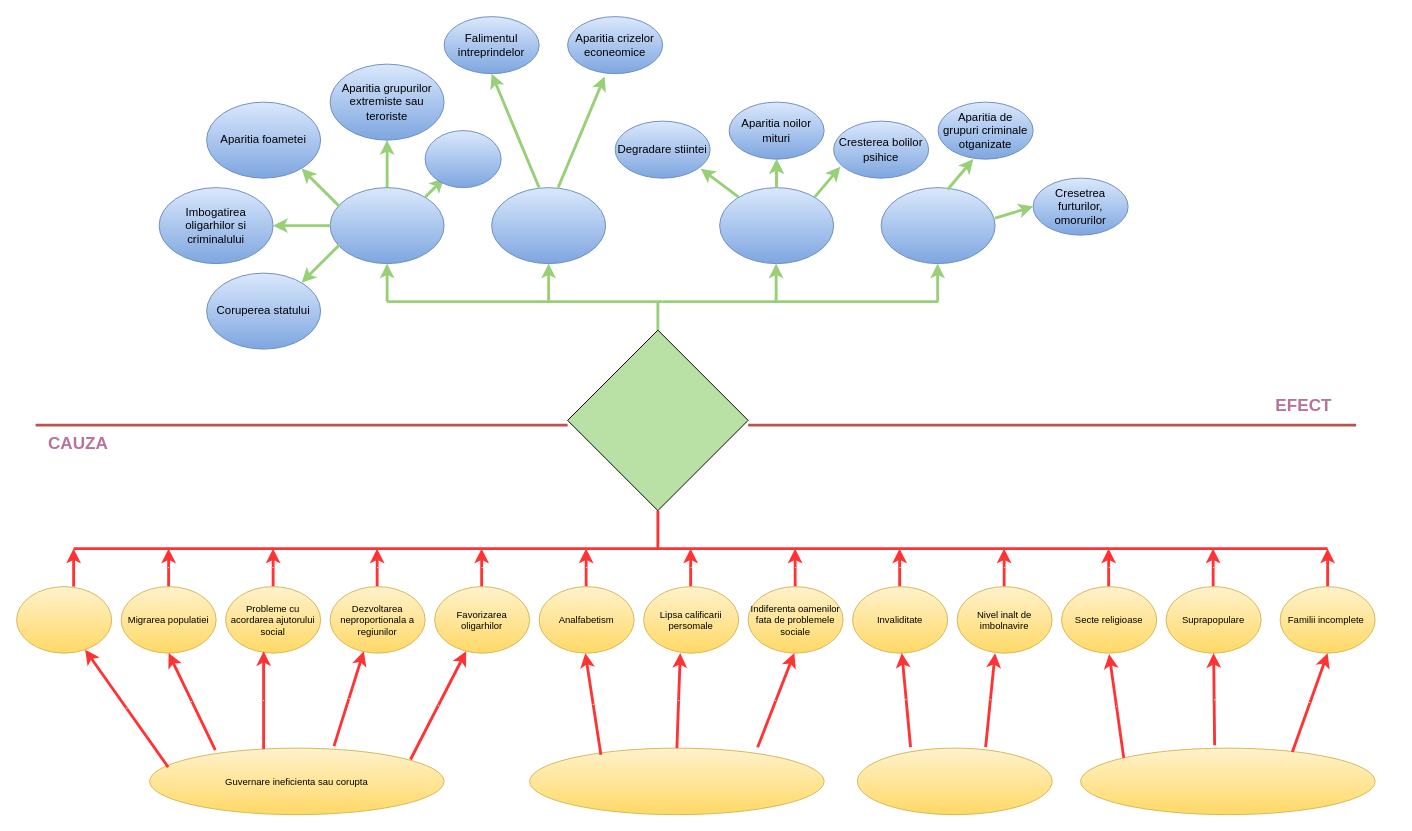
Image size: 1412x831. Some labels were removed from this diagram. The shapes that lost their labels are listed below. From the top down, each one's centre as x and y in pixels, then its label:
the point at 462,159: Proteste violente
the point at 386,225: Cresterea inegalitii sociale
the point at 548,225: Dezvoltare lenta e economiei
the point at 776,225: Scaderea nivelului intelectual al societatii
the point at 937,225: Cresterea criminalitatii
the point at 657,420: Cresterea numarului de oameni din paturile social vulnerabile
the point at 64,619: Aparitia razboielor
the point at 676,781: Probleme in educatie
the point at 954,781: Probleme in domeniul sanatatii si siguranta muncii
the point at 1227,781: Probleme in cadrul famililor sau probleme religioase
